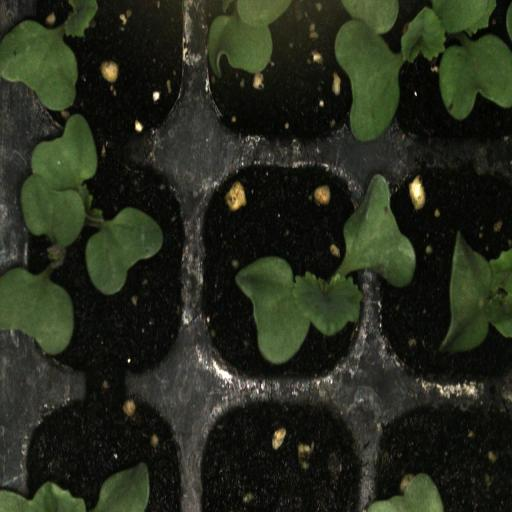seedling: (192, 157, 379, 392), (14, 0, 192, 145)
twoseedling: (4, 141, 192, 382), (381, 0, 512, 156)
